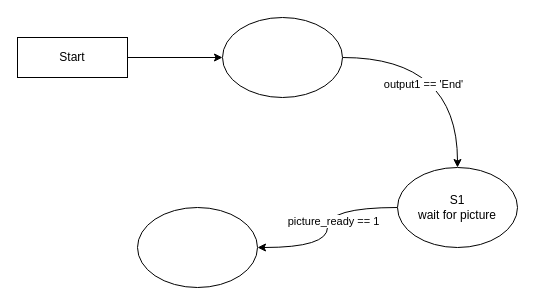
This 535x305 diagram has some shape labels left out. Each missing label, with the centre of its shape:
S0 180 degree turn: point (282, 57)
S2 Aiming: point (197, 247)
